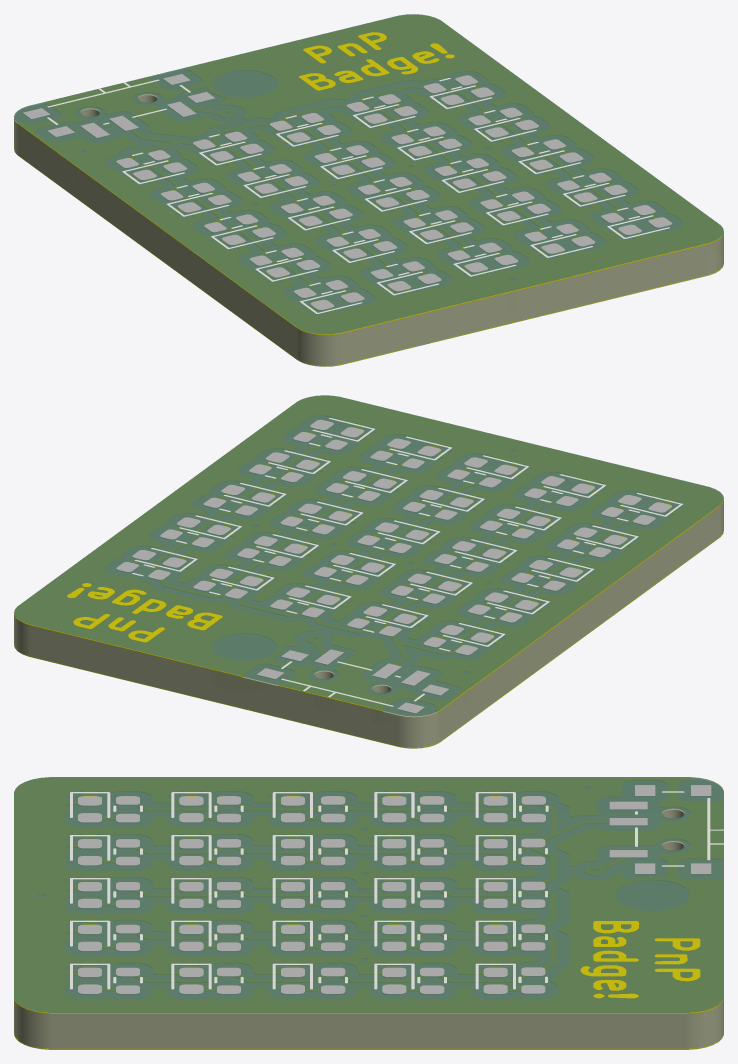
The model's file is pnp-badge.glb.
The picture shows the model from 3 angles, top to bottom: view 1: azimuth 30°, elevation 25°; view 2: azimuth 150°, elevation 25°; view 3: azimuth 270°, elevation 25°; orthographic projection. The views are drawn at different scales.
Visible parts, largest first — view 1: =>[0:1:1:7], =>[0:1:1:2], =>[0:1:1:9], =>[0:1:1:5]; view 2: =>[0:1:1:7], =>[0:1:1:2], =>[0:1:1:9], =>[0:1:1:5]; view 3: =>[0:1:1:7], =>[0:1:1:2], =>[0:1:1:9], =>[0:1:1:5].
Boxes of the visible parts, x1=… form: =>[0:1:1:7]: x1=14, y1=14, x2=723, y2=366; =>[0:1:1:2]: x1=14, y1=15, x2=723, y2=366; =>[0:1:1:9]: x1=14, y1=69, x2=723, y2=365; =>[0:1:1:5]: x1=47, y1=78, x2=723, y2=314; =>[0:1:1:7]: x1=14, y1=395, x2=723, y2=748; =>[0:1:1:2]: x1=14, y1=396, x2=723, y2=748; =>[0:1:1:9]: x1=14, y1=416, x2=723, y2=747; =>[0:1:1:5]: x1=132, y1=418, x2=682, y2=706; =>[0:1:1:7]: x1=14, y1=777, x2=723, y2=1049; =>[0:1:1:2]: x1=14, y1=778, x2=723, y2=1049; =>[0:1:1:9]: x1=14, y1=779, x2=723, y2=1048; =>[0:1:1:5]: x1=14, y1=791, x2=723, y2=1047.
Size of the model in its own units: 0.022 by 0.00166 by 0.028.
4 materials, 4 textured.
